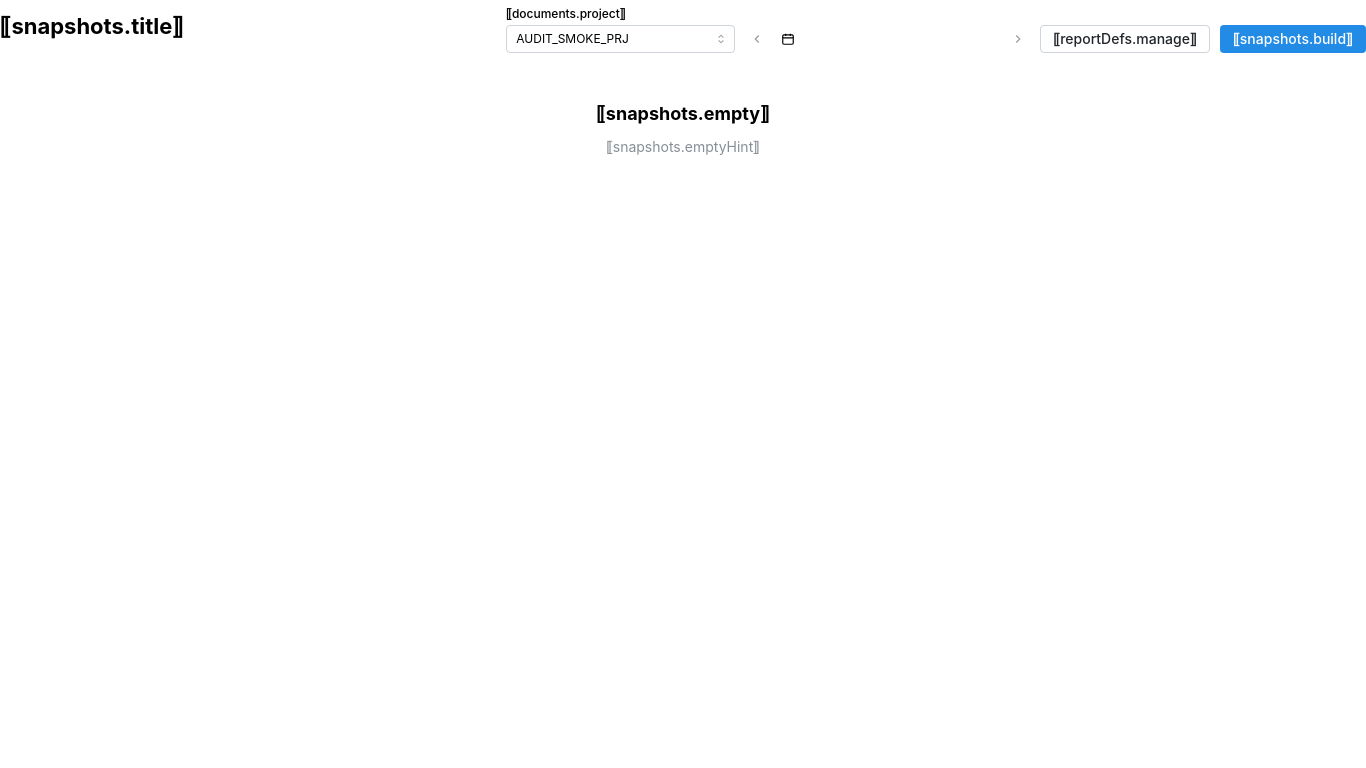
SnapshotsPage: період побудови (діалог «Build snapshot») — PeriodPicker замість NumberInput › очищення поля НЕ скидає період побудови — лишається попереднє значення
Click the button "⟦snapshots.build⟧". click: (1293, 39)
box: [1220,25,1365,53]
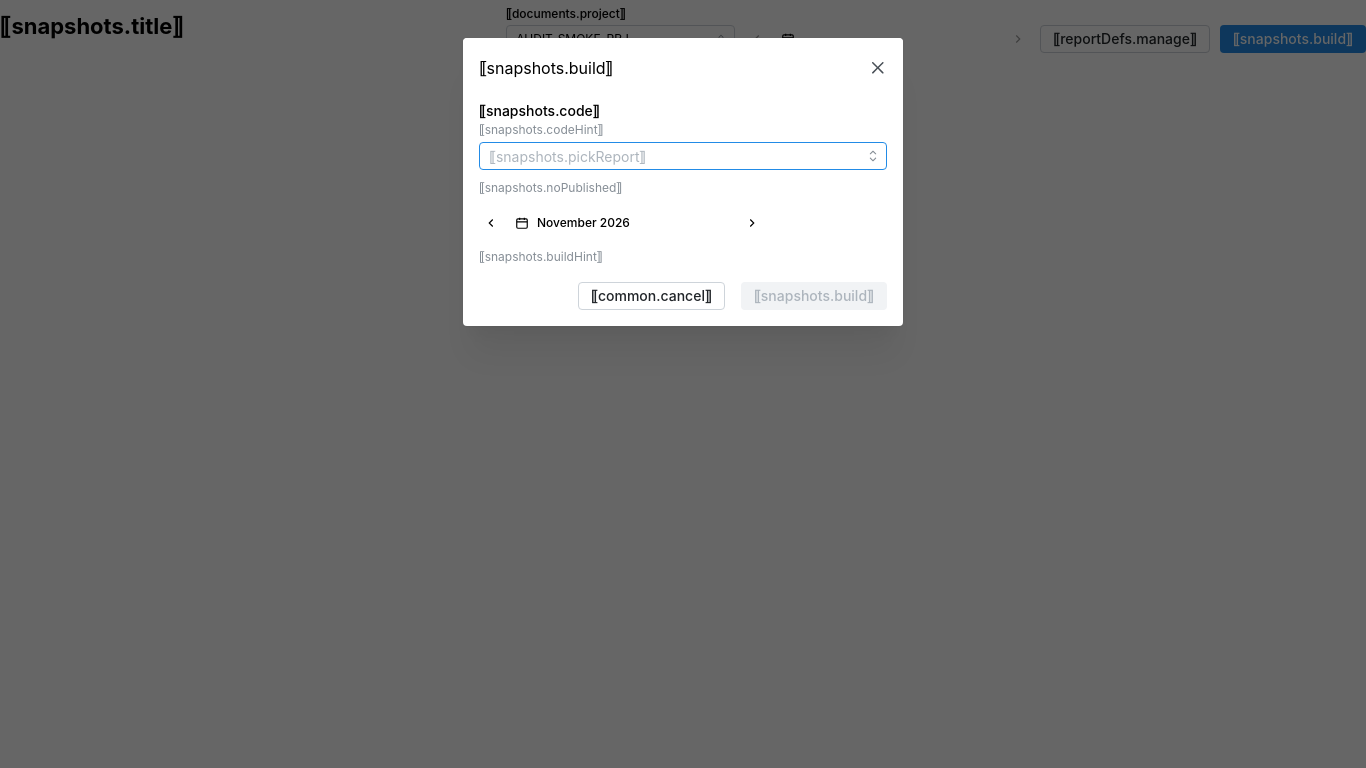
Replace the text in the field named "⟦documents.period⟧" with "202503". click: (633, 223)
box: [536,209,730,237]
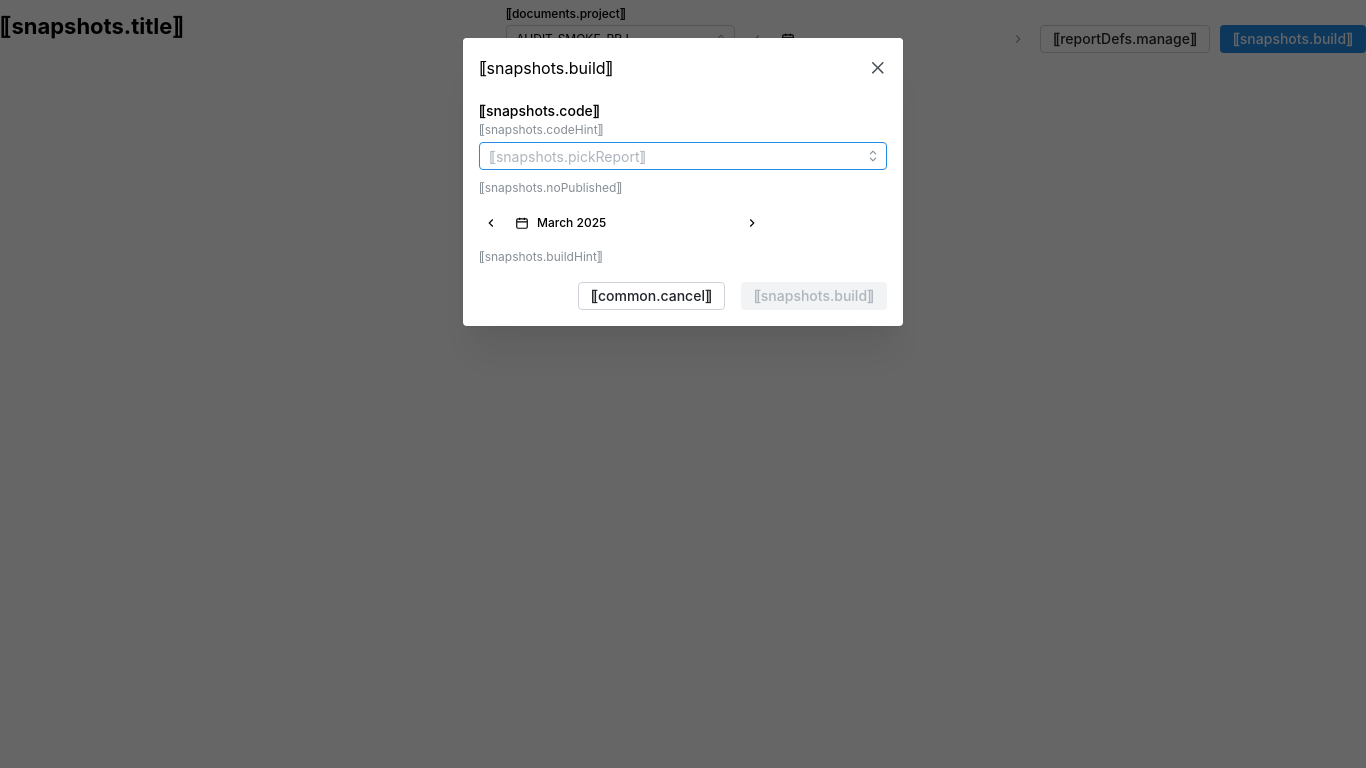
Check: the field named "⟦documents.period⟧" holds "March 2025"
Clear the field named "⟦documents.period⟧". click: (633, 223)
box: [536,209,730,237]
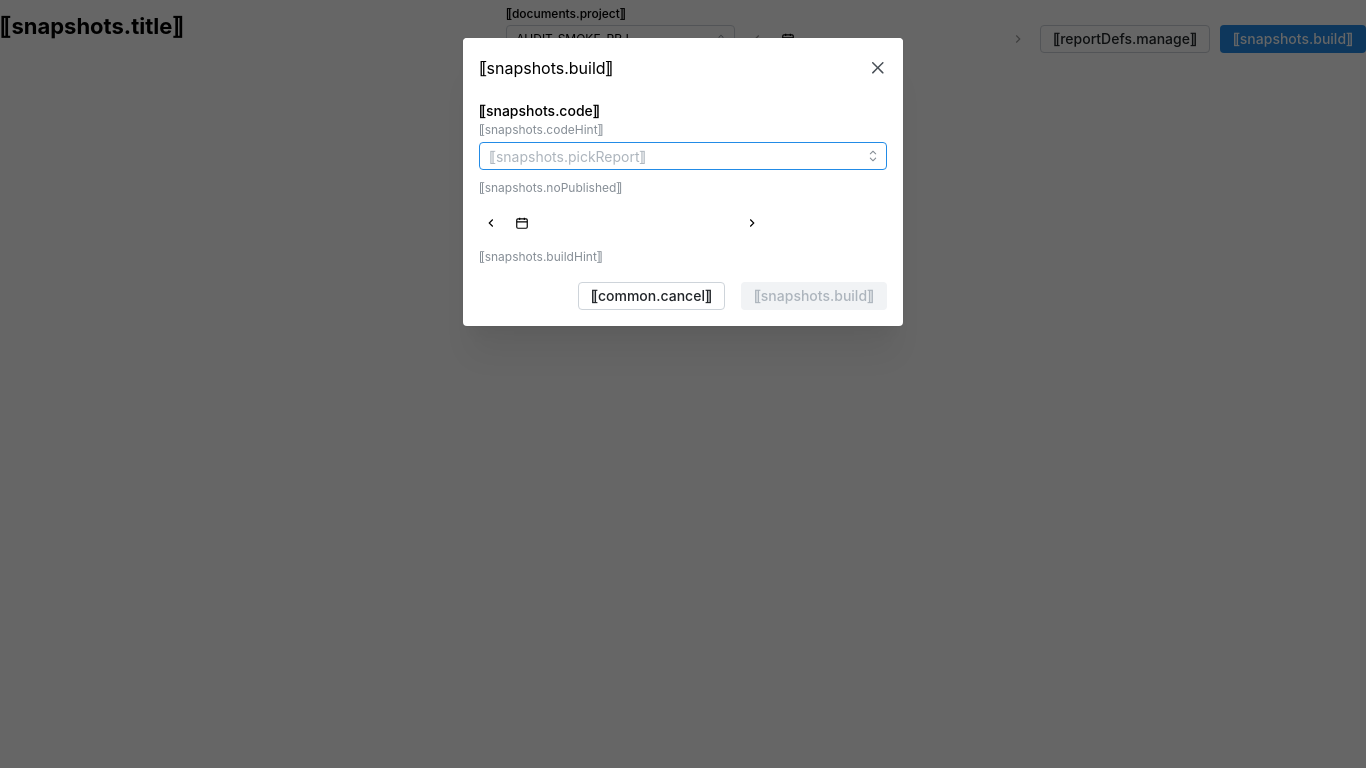
Click the button named "⟦period.next⟧". click: (752, 223)
box: [740,209,764,237]
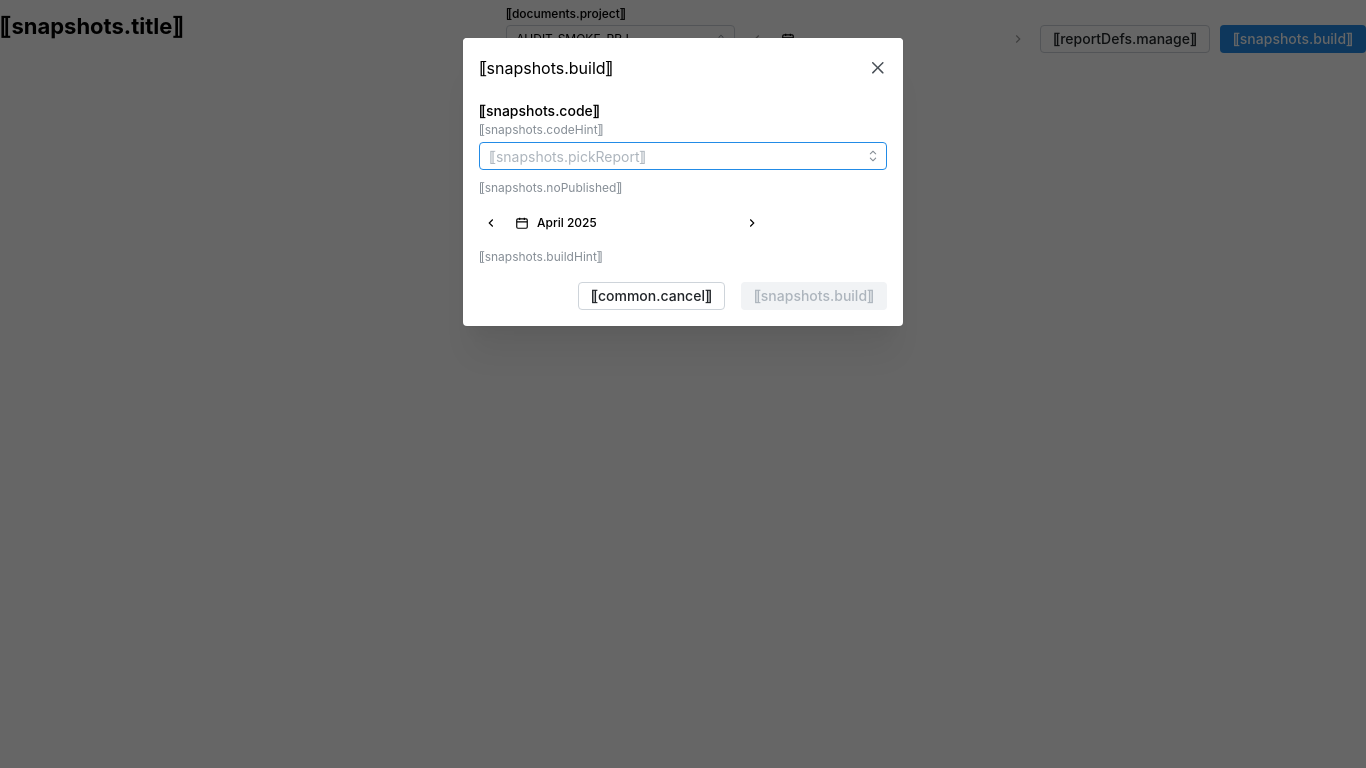
Check: the field named "⟦documents.period⟧" holds "April 2025", box [536,209,730,237]
